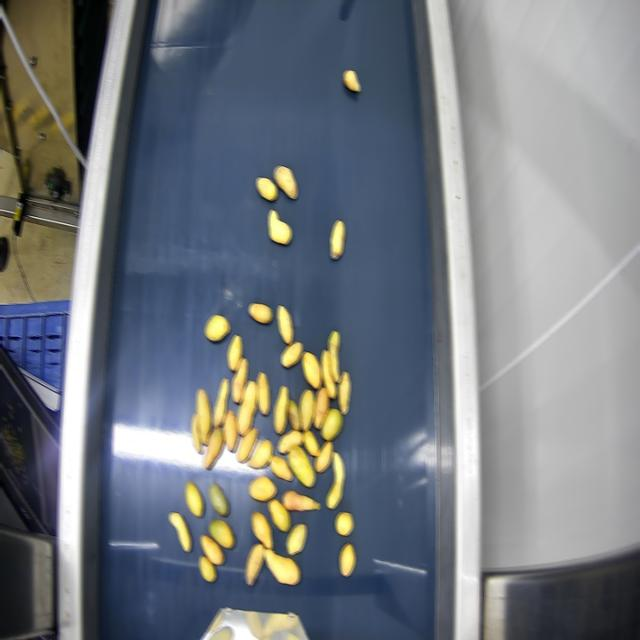Baby Potato: (264, 544, 302, 584), (237, 381, 257, 435), (289, 445, 314, 487), (327, 451, 344, 508), (203, 427, 224, 468), (246, 542, 265, 587), (196, 388, 211, 444), (211, 378, 228, 427), (268, 209, 291, 244), (169, 513, 190, 551), (282, 490, 319, 511), (251, 512, 272, 548), (321, 350, 336, 398), (236, 428, 257, 462), (209, 520, 234, 548), (275, 166, 296, 199), (302, 352, 321, 388), (232, 357, 247, 402), (248, 440, 272, 468), (200, 535, 223, 564), (274, 386, 288, 433), (205, 314, 229, 341), (209, 482, 228, 516), (270, 499, 290, 531), (321, 409, 342, 439), (250, 476, 275, 501), (313, 387, 328, 428), (299, 390, 314, 430), (287, 523, 306, 554), (224, 409, 238, 451), (328, 330, 339, 383), (187, 480, 203, 516), (277, 305, 292, 343), (315, 440, 332, 472), (281, 342, 302, 367), (257, 372, 269, 415), (279, 431, 302, 453), (269, 457, 292, 479), (339, 543, 354, 575), (332, 220, 344, 259), (228, 335, 241, 371), (286, 400, 301, 431), (249, 303, 272, 323), (257, 177, 276, 200), (340, 371, 350, 414), (191, 414, 202, 453), (303, 431, 319, 455), (335, 513, 352, 535), (201, 556, 215, 582), (344, 70, 359, 91)
